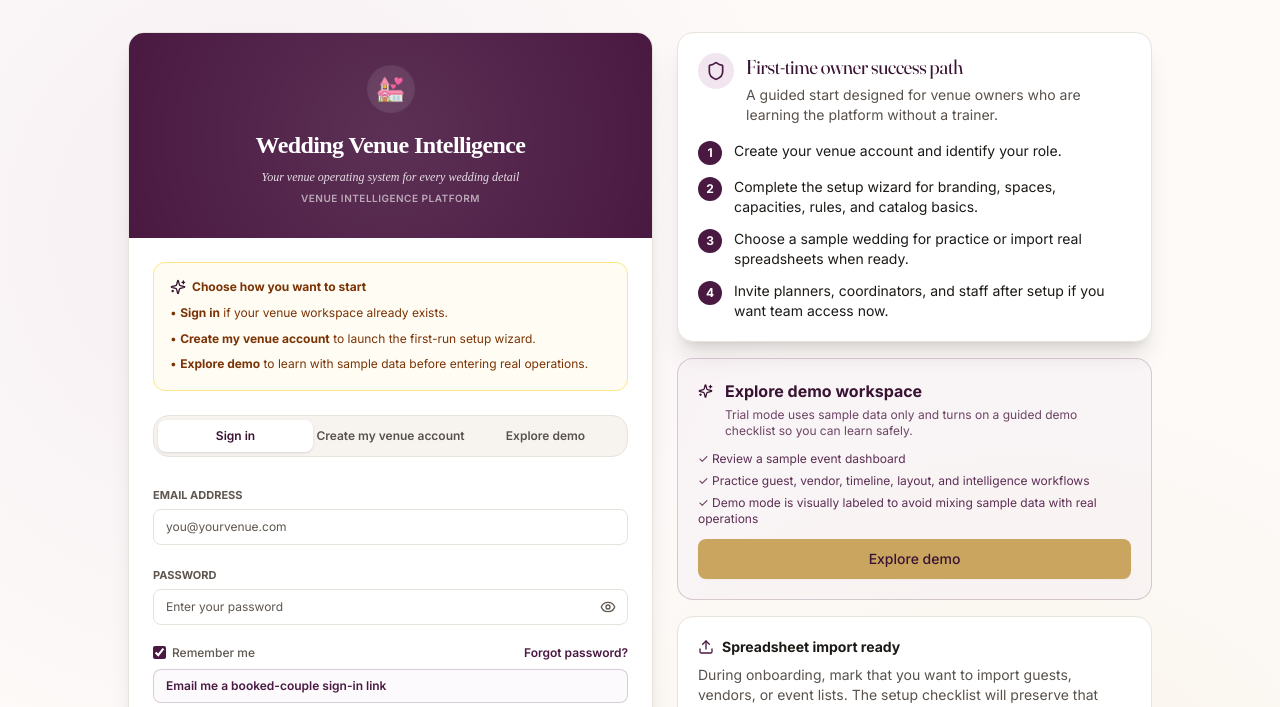
Scenario: AuthScreen first-time owner UX › shows clearer registration path, role selection, onboarding explanation, import, and team invite options
Click the button "Create my venue account" at (390, 436), box [313, 420, 468, 452]
(page scrolled)
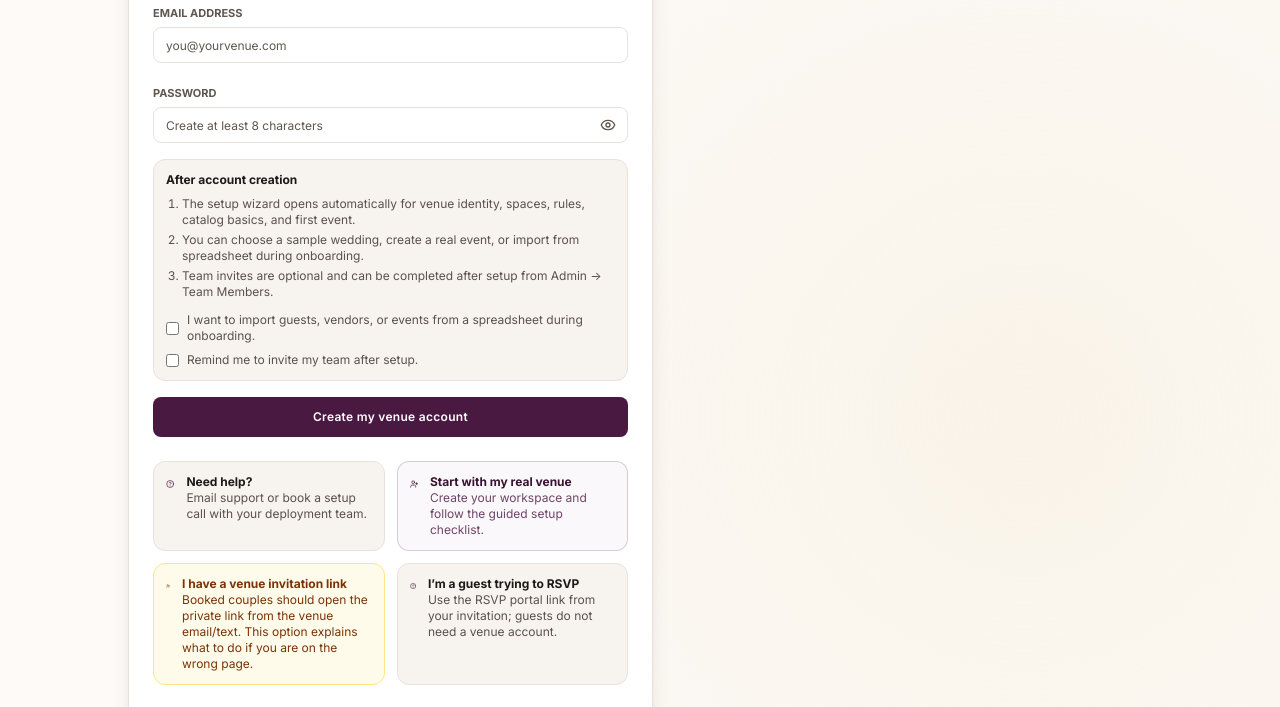
expect the text "After account creation" is shown: met, box [166, 172, 297, 187]
expect the checkbox labelled "import guests, vendors, or events from a spreadsheet" is shown: met, box [166, 322, 179, 335]
expect the checkbox labelled "Remind me to invite my team after setup." is shown: met, box [166, 354, 179, 367]
